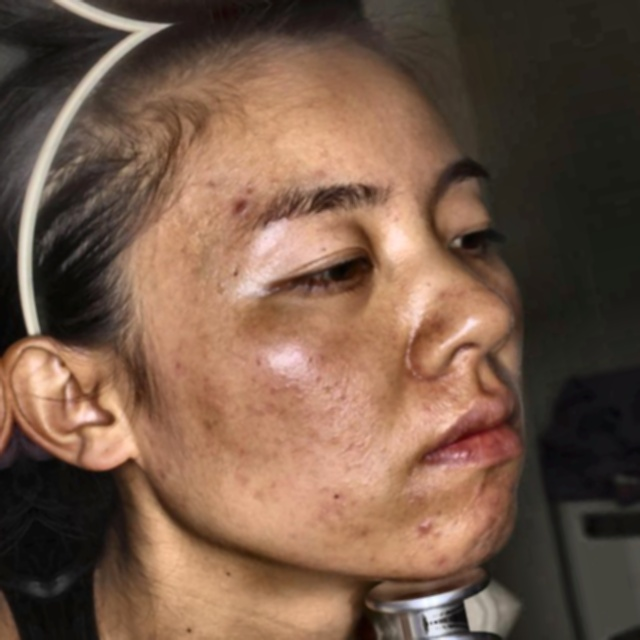comedone: (410, 510, 445, 534), (230, 189, 251, 219)
